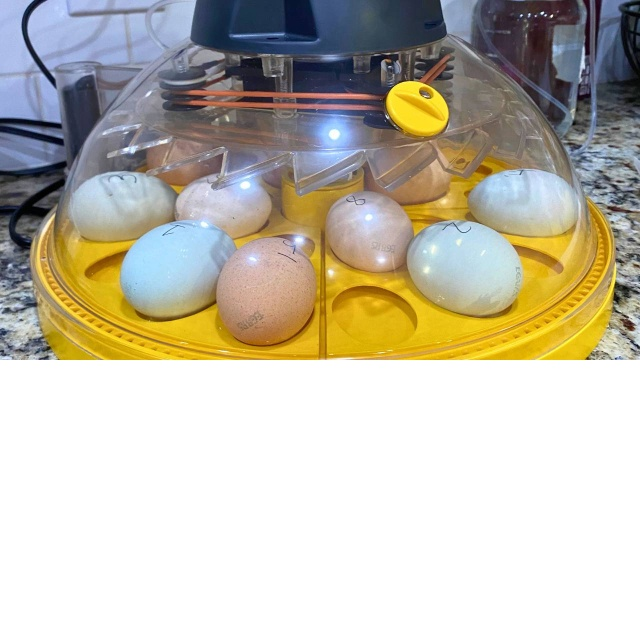mit: (212, 232, 319, 350), (321, 188, 414, 274)
